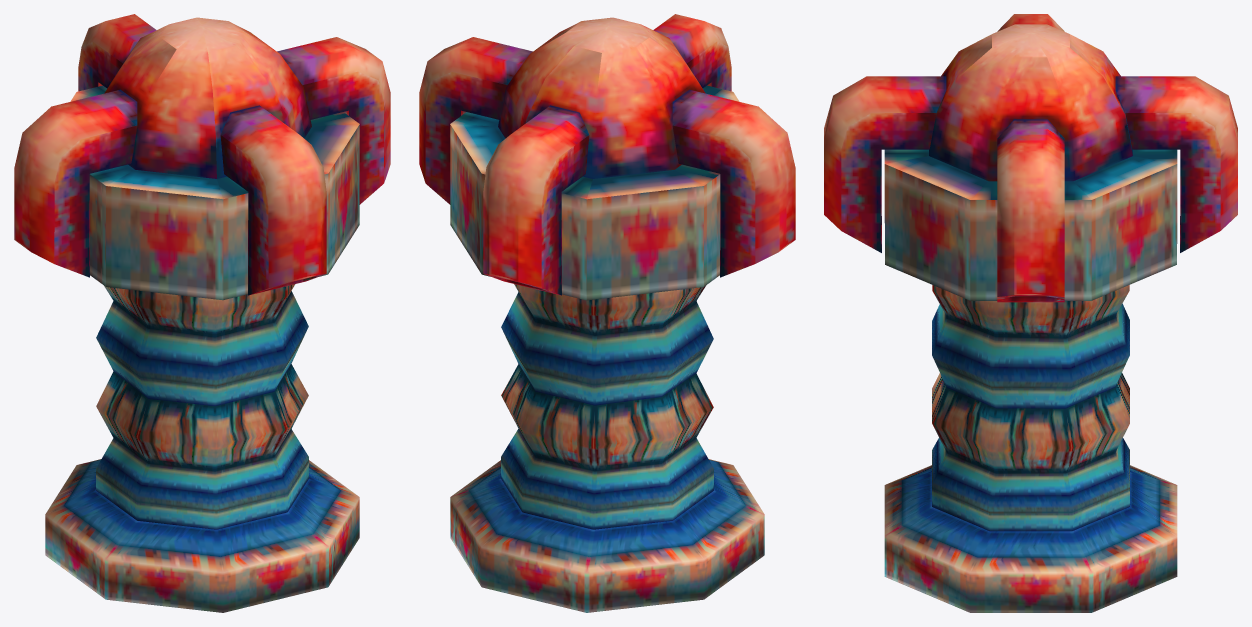
File: fuel_barrel.obj
3 views of the same model, side by side, from view 1: azimuth 30°, elevation 25°; view 2: azimuth 150°, elevation 25°; view 3: azimuth 270°, elevation 25° (orthographic).
Bounding box in the file's own units: 0.2684 × 0.3707 × 0.2684.
Materials: 1 (1 with a texture image).
